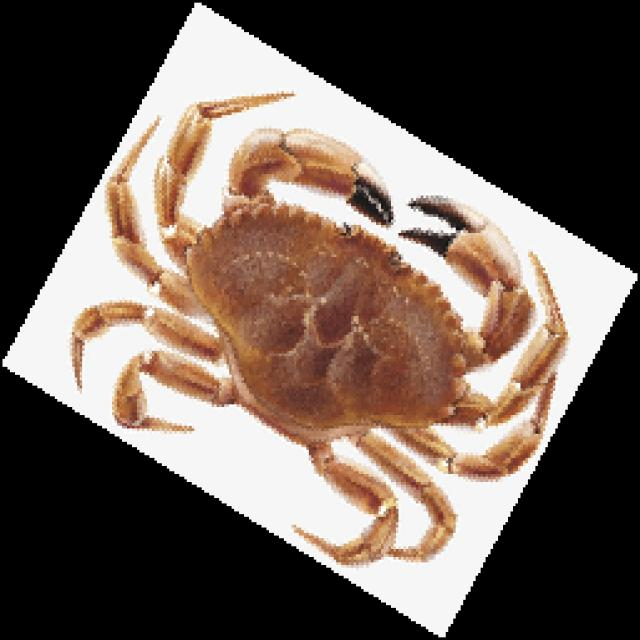Native Jonah crab: (72, 91, 565, 562)
